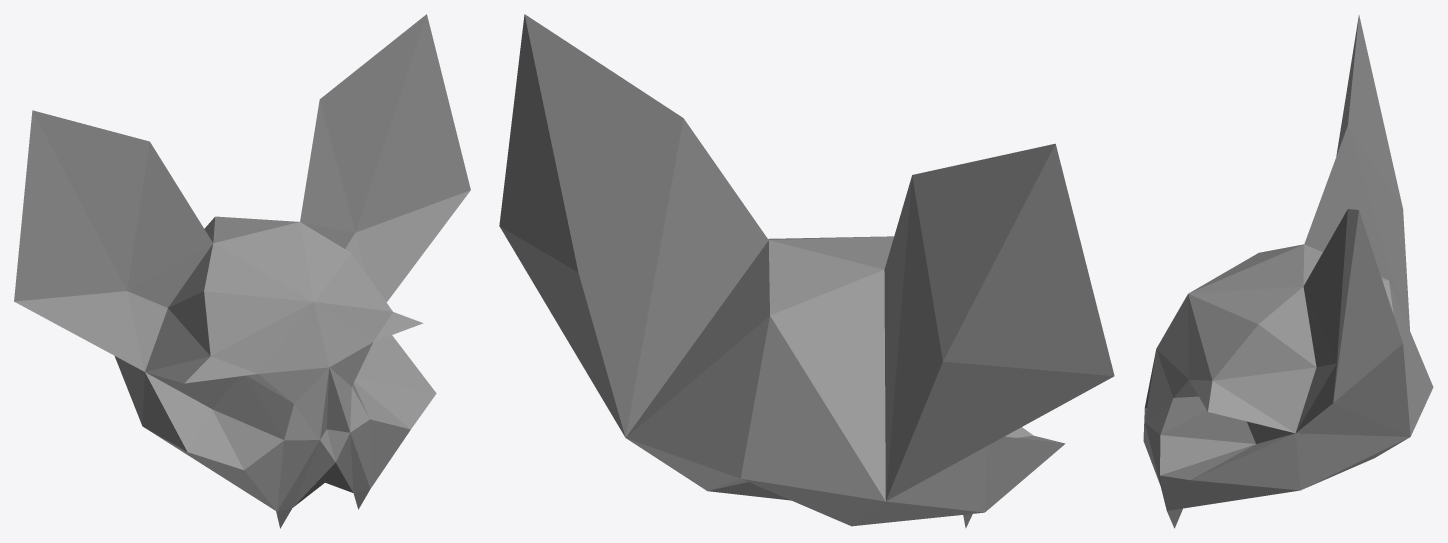
Rendered from Enemy_Bat_Head.fbx.
The picture shows the model from 3 angles, left to right: view 1: azimuth 30°, elevation 25°; view 2: azimuth 150°, elevation 25°; view 3: azimuth 270°, elevation 25°; orthographic projection. The views are drawn at different scales.
Parts seen in each view (by area): view 1: Enemy_Bat_Head; view 2: Enemy_Bat_Head; view 3: Enemy_Bat_Head.
Boxes of the visible parts, left/top/right/bottom form: Enemy_Bat_Head: left=14, top=14, right=470, bottom=528; Enemy_Bat_Head: left=499, top=14, right=1114, bottom=528; Enemy_Bat_Head: left=1143, top=15, right=1433, bottom=528.
Bounding box in the file's own units: 112 × 91.52 × 60.44.
